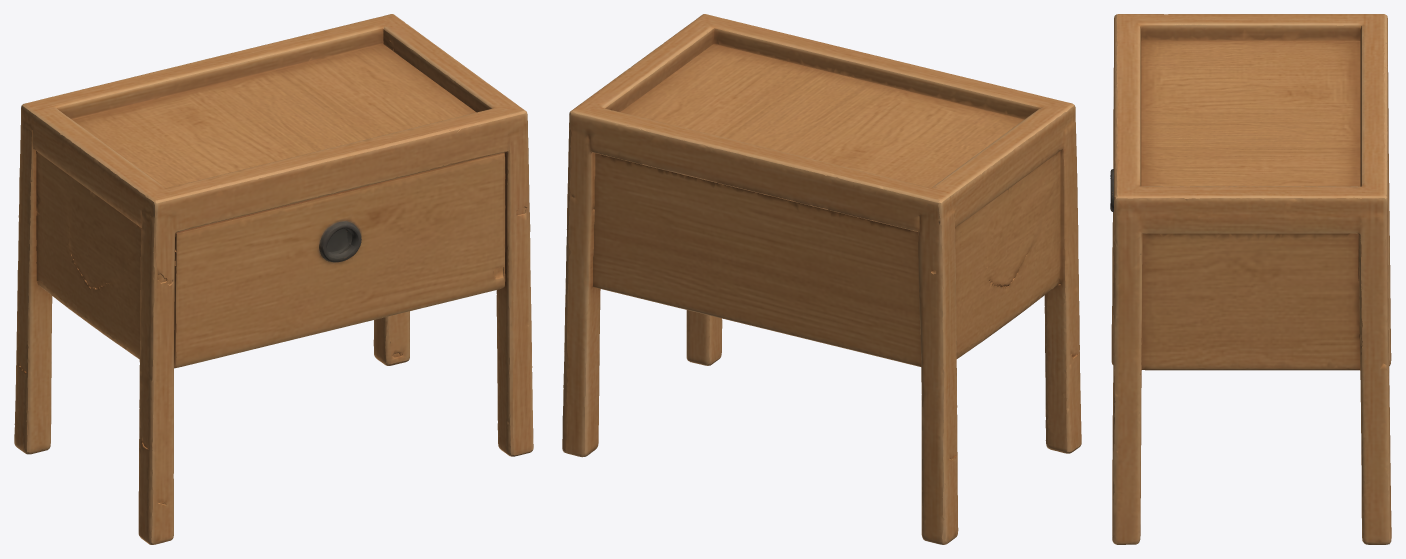
The model's file is item_7100a87b.glb.
3 views of the same model, side by side, from view 1: azimuth 30°, elevation 25°; view 2: azimuth 150°, elevation 25°; view 3: azimuth 270°, elevation 25° (orthographic).
Visible parts, largest first — view 1: world; view 2: world; view 3: world.
Part boxes in pixels (x1,y1,x2,y2): world: (14,14,533,544); world: (562,14,1081,544); world: (1110,14,1391,544).
Bounding box in the file's own units: 0.6 × 0.5108 × 0.3752.
Materials: 1 (1 with a texture image).
